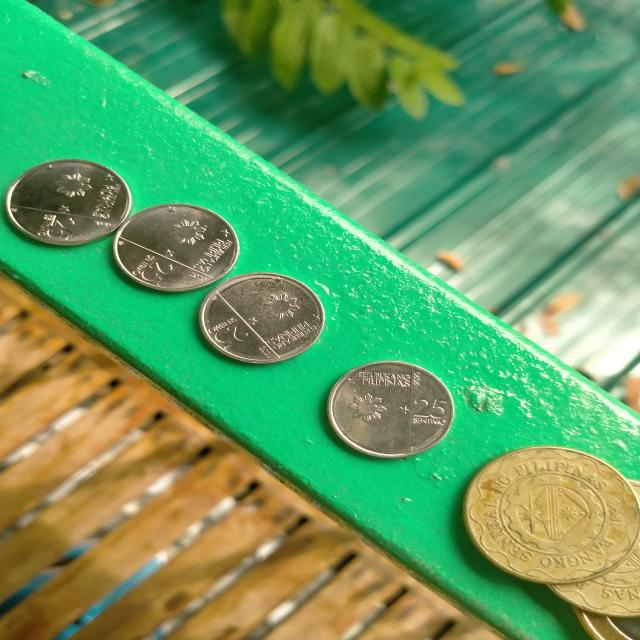25Cent_New_Front: (336, 366, 455, 431), (131, 218, 233, 287), (212, 288, 320, 353)
5_Old_Back: (482, 456, 623, 576)
